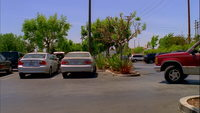car: (18, 52, 58, 78), (61, 51, 96, 78)
